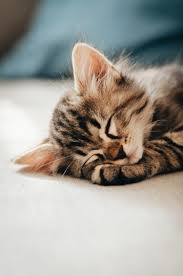cat: (11, 40, 183, 185)
